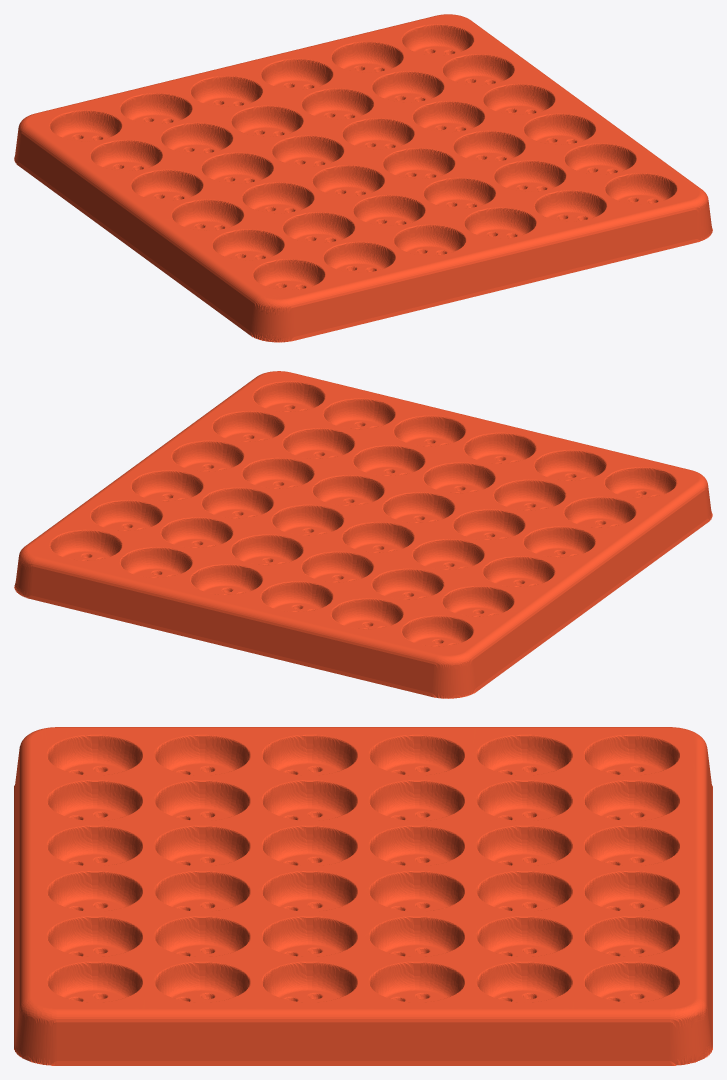
Rendered from mold.glb.
3 renders of one model, top to bottom at view 1: azimuth 30°, elevation 25°; view 2: azimuth 150°, elevation 25°; view 3: azimuth 270°, elevation 25°, orthographic. The views are drawn at different scales.
Parts seen in each view (by area): view 1: geometry_0; view 2: geometry_0; view 3: geometry_0.
Part boxes in pixels (box(x1,y1,x2,y2)): geometry_0: box(14, 14, 712, 342); geometry_0: box(14, 371, 712, 698); geometry_0: box(14, 727, 712, 1065).
Bounding box in the file's own units: 0.1447 × 0.0113 × 0.1447.
